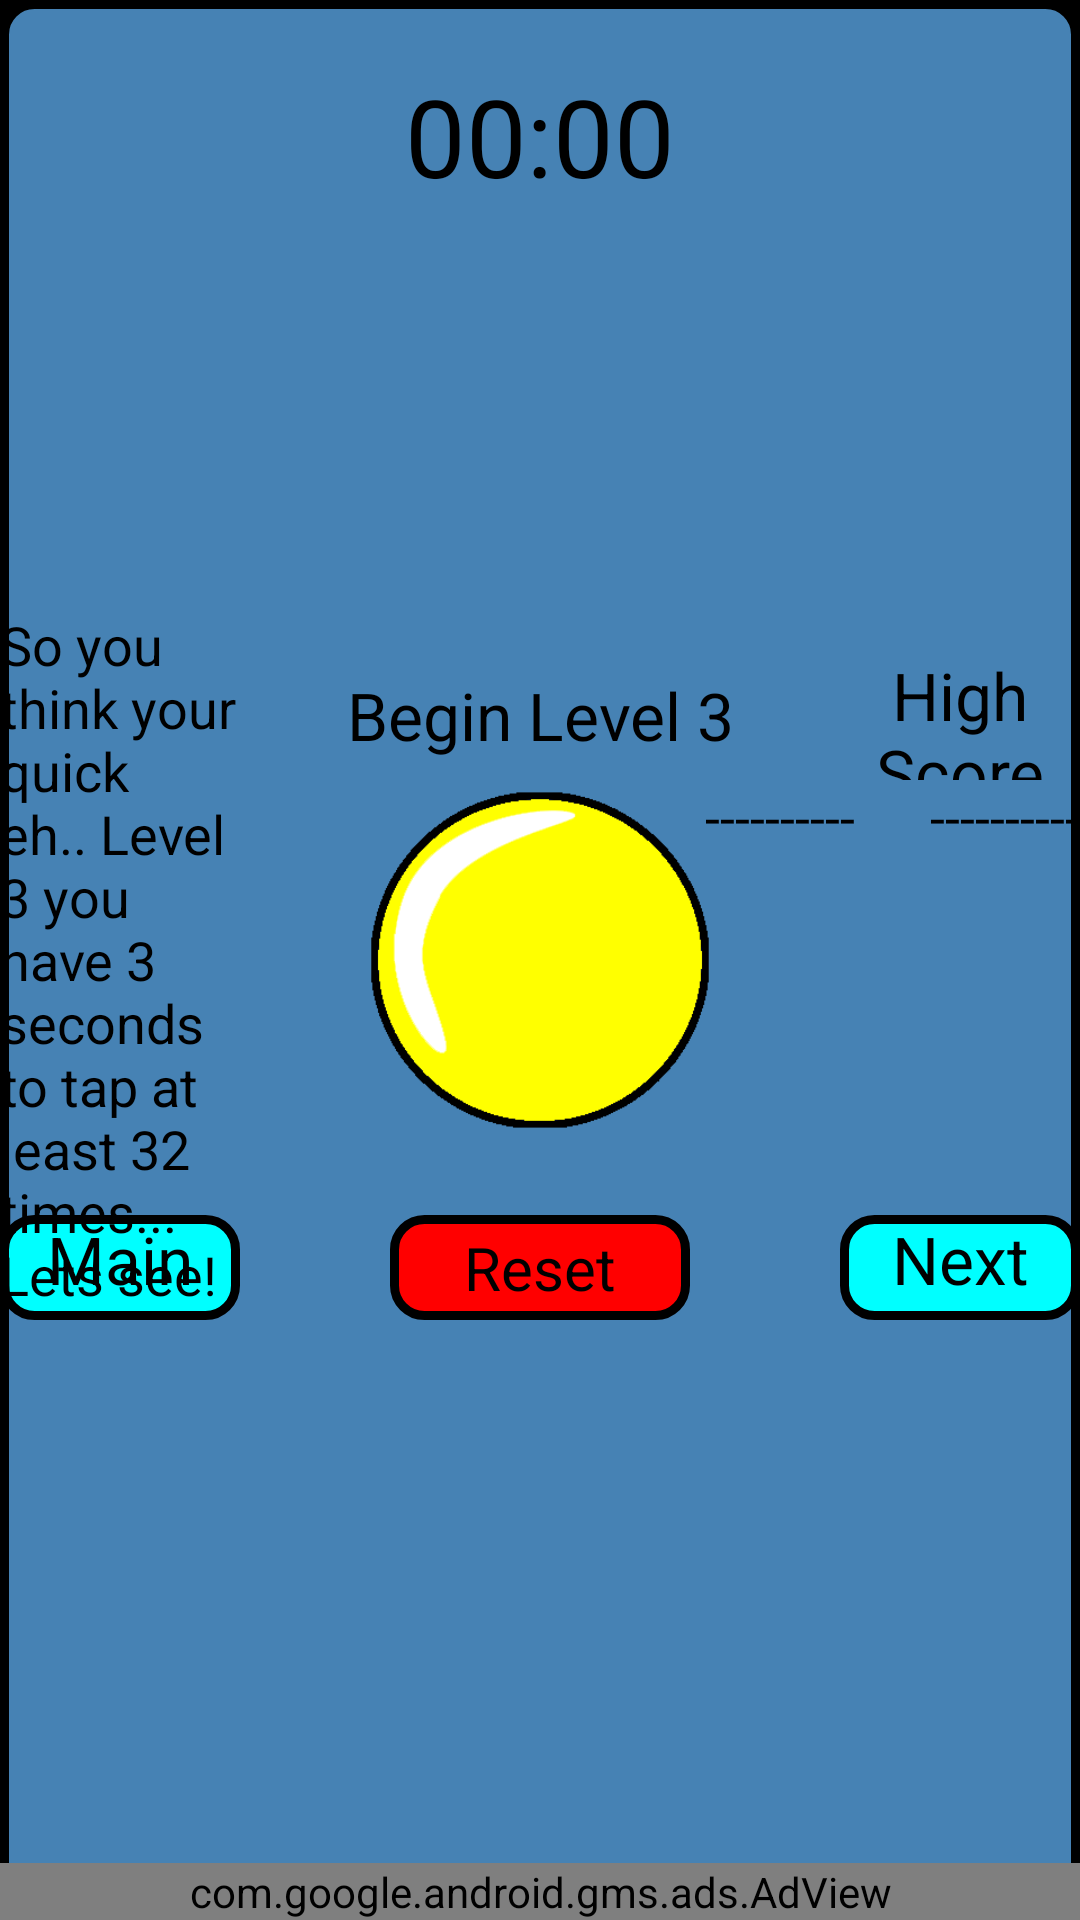

Where icons sit on this 1080 x 1920 app screen, as (x1, y1, x2, y2):
yellowbutton: (371, 792, 719, 1128)
